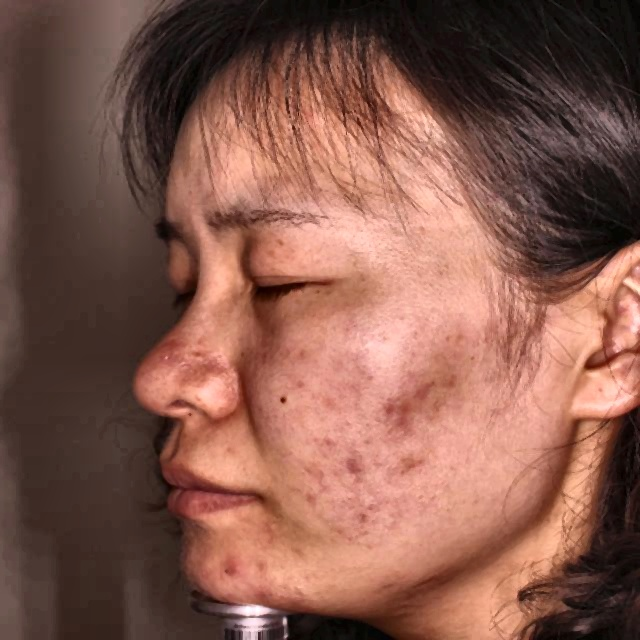pustule: (213, 550, 248, 577), (152, 338, 184, 362), (334, 455, 364, 478), (410, 377, 434, 403), (382, 400, 408, 418), (256, 583, 287, 598), (399, 451, 418, 474), (246, 553, 268, 570)
